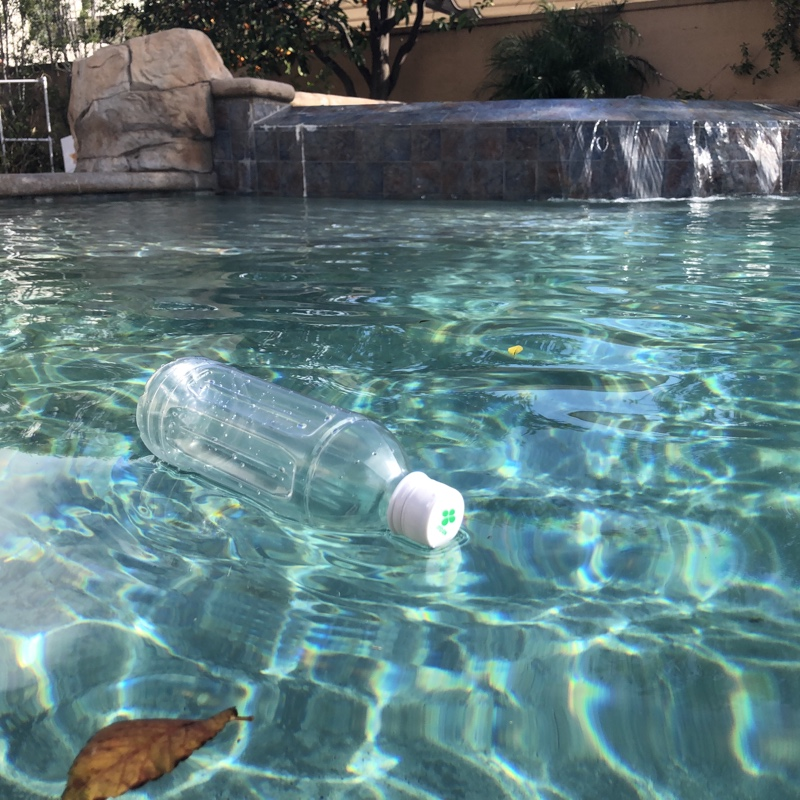Plastic Bottle: (132, 348, 469, 557)
